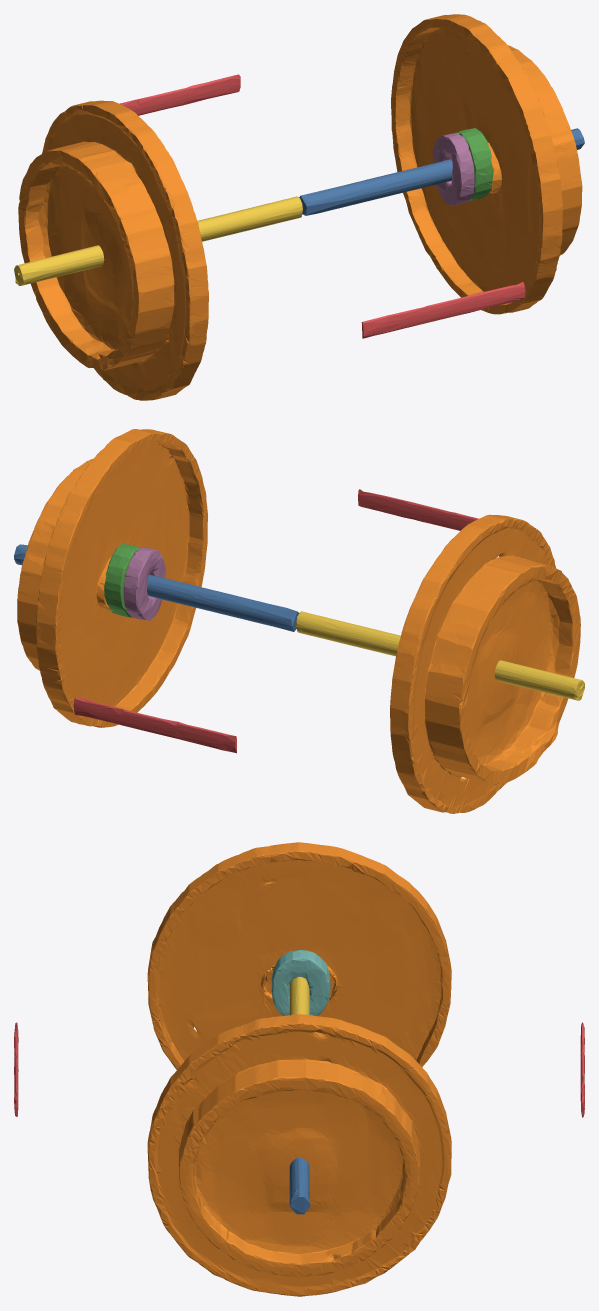
File: dumbbell_ours_assembled.glb
3 renders of one model, top to bottom at view 1: azimuth 30°, elevation 25°; view 2: azimuth 150°, elevation 25°; view 3: azimuth 270°, elevation 25°, orthographic.
Parts seen in each view (by area): view 1: part_01, part_02, part_05, part_00, part_06, part_04; view 2: part_01, part_02, part_05, part_00, part_06, part_04; view 3: part_01, part_03, part_00, part_02, part_05.
Boxes of the visible parts, x1=… form: part_01: x1=18, y1=14, x2=582, y2=400; part_02: x1=119, y1=74, x2=525, y2=338; part_05: x1=14, y1=196, x2=302, y2=285; part_00: x1=299, y1=128, x2=584, y2=215; part_06: x1=432, y1=133, x2=474, y2=205; part_04: x1=456, y1=128, x2=493, y2=201; part_01: x1=17, y1=429, x2=580, y2=813; part_02: x1=73, y1=489, x2=478, y2=753; part_05: x1=296, y1=611, x2=584, y2=700; part_00: x1=14, y1=544, x2=298, y2=631; part_06: x1=123, y1=547, x2=165, y2=620; part_04: x1=104, y1=543, x2=140, y2=617; part_01: x1=147, y1=842, x2=451, y2=1296; part_03: x1=271, y1=950, x2=330, y2=1016; part_00: x1=289, y1=1157, x2=310, y2=1214; part_02: x1=14, y1=1022, x2=584, y2=1117; part_05: x1=289, y1=976, x2=309, y2=1015.
Bounding box in the file's own units: 0.9978 × 0.4665 × 0.8805.
